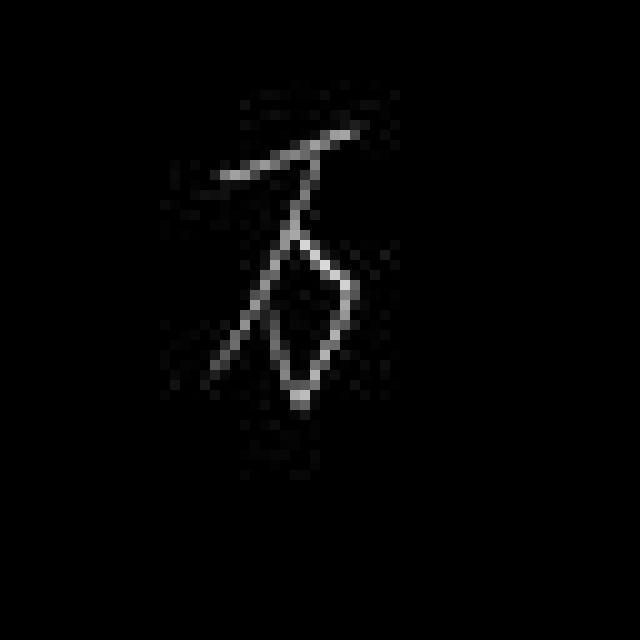10000 -a ten thousand-: (186, 112, 377, 431)
